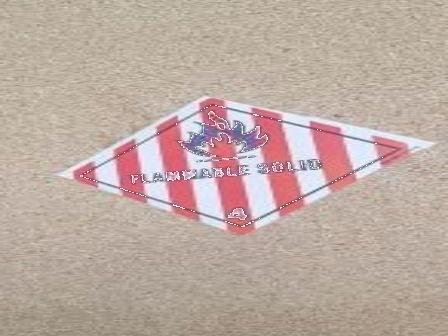flammable-solid: (52, 97, 438, 232)
